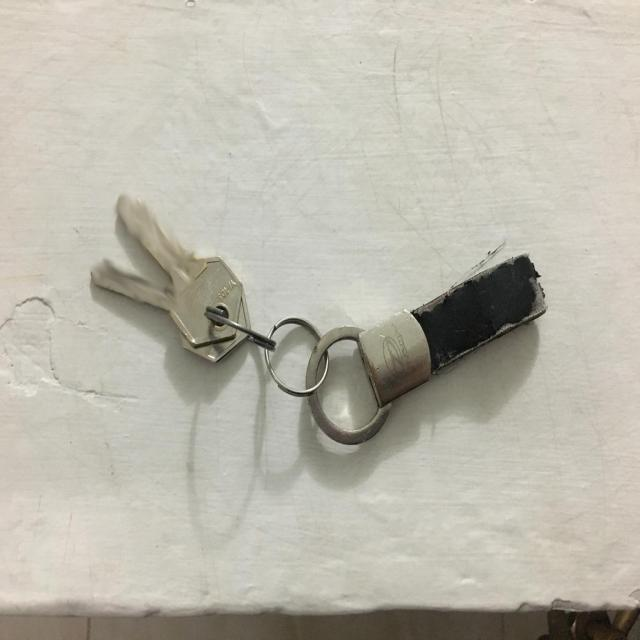Frontdoor keys: (91, 190, 255, 364)
